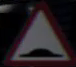Speed Breaker ahead: (9, 9, 64, 59)
